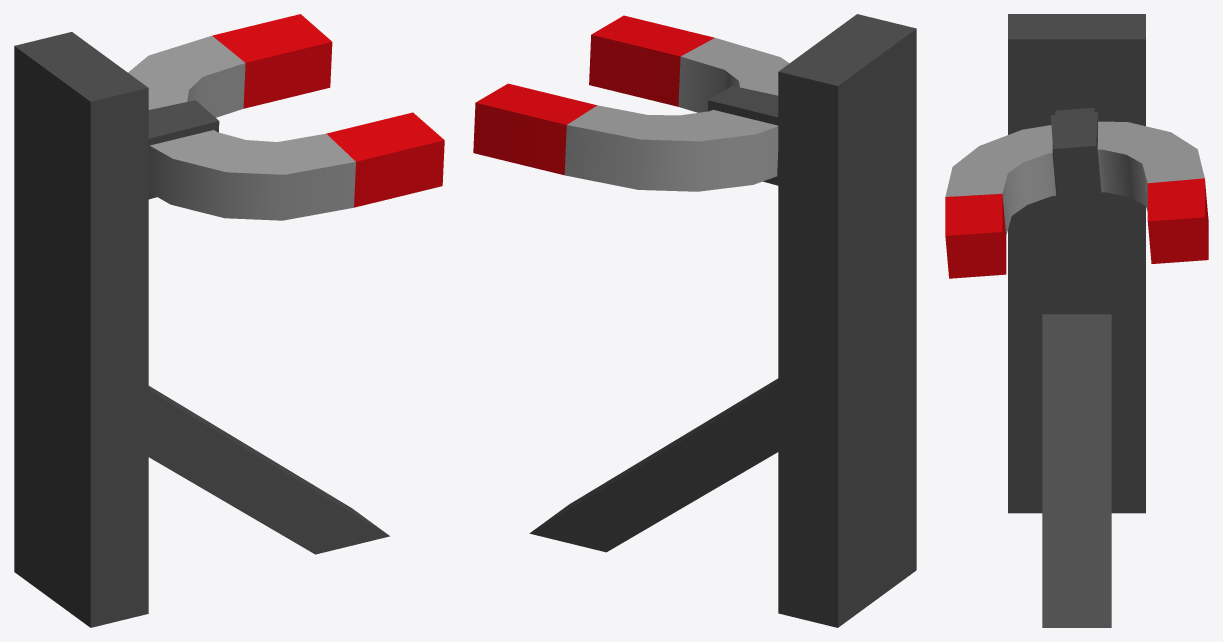
File: magnet (1).fbx
3 renders of one model, left to right at view 1: azimuth 30°, elevation 25°; view 2: azimuth 150°, elevation 25°; view 3: azimuth 270°, elevation 25°, orthographic. The views are drawn at different scales.
Visible parts, largest first — view 1: Cube, Circle; view 2: Cube, Circle; view 3: Cube, Circle.
Boxes of the visible parts, box(x1,y1,x2,y2) form: Cube: box(14, 32, 389, 627); Circle: box(128, 14, 444, 220); Cube: box(529, 14, 916, 627); Circle: box(473, 15, 789, 191); Cube: box(1008, 14, 1145, 627); Circle: box(945, 107, 1208, 278).
Size of the model in its own units: 245 by 386 by 195.
